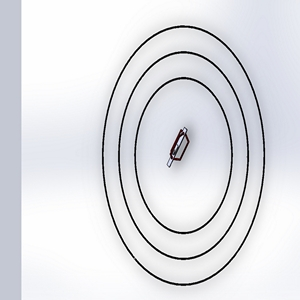circle: (96, 19, 273, 290)
submarine: (162, 122, 200, 176)
